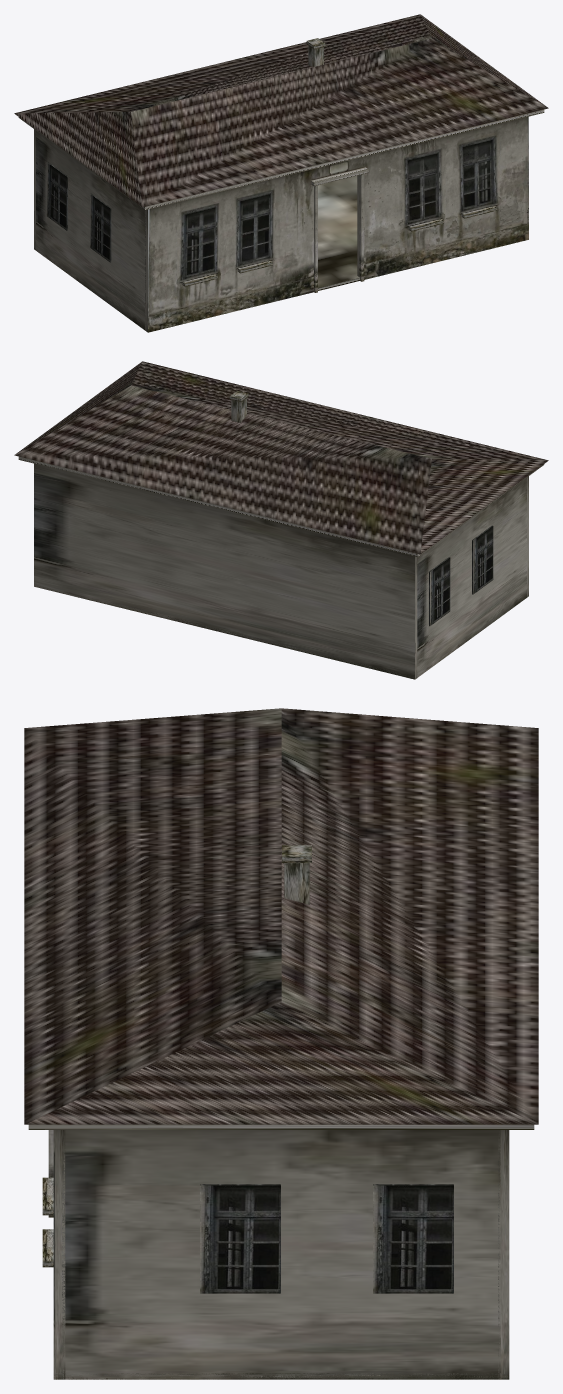
Rendered from mektep.glb.
3 renders of one model, top to bottom at view 1: azimuth 30°, elevation 25°; view 2: azimuth 150°, elevation 25°; view 3: azimuth 270°, elevation 25°, orthographic. The views are drawn at different scales.
Parts seen in each view (by area): view 1: mektep; view 2: mektep; view 3: mektep.
Part boxes in pixels (x1,y1,x2,y2): mektep: (14, 14, 548, 332); mektep: (14, 361, 548, 679); mektep: (24, 708, 538, 1379).
Bounding box in the file's own units: 12.16 × 5.43 × 6.66.
Materials: 1 (1 with a texture image).
